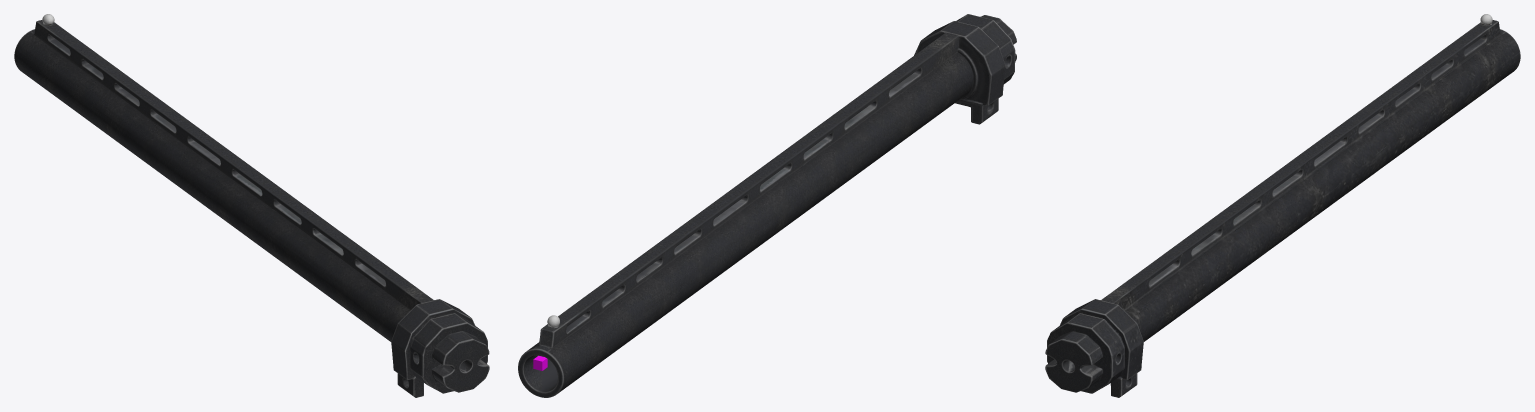
File: LongBarrel_Shotgun.glb
The picture shows the model from 3 angles, left to right: view 1: azimuth 30°, elevation 25°; view 2: azimuth 150°, elevation 25°; view 3: azimuth 330°, elevation 25°; orthographic projection. The views are drawn at different scales.
Visible parts, largest first — view 1: LongBarrel_02, LongBarrel_03, LongBarrel_01, LongBarrel_06, LongBarrel_05, LongBarrel_04; view 2: LongBarrel_02, LongBarrel_03, LongBarrel_01, LongBarrel_04, LongBarrel_05, LongBarrel_06; view 3: LongBarrel_02, LongBarrel_03, LongBarrel_01, LongBarrel_06, LongBarrel_05, LongBarrel_04.
Part boxes in pixels (x1=…): LongBarrel_02: x1=87, y1=76, x2=285, y2=251; LongBarrel_03: x1=239, y1=192, x2=432, y2=341; LongBarrel_01: x1=14, y1=14, x2=127, y2=135; LongBarrel_06: x1=413, y1=316, x2=489, y2=393; LongBarrel_05: x1=394, y1=306, x2=475, y2=397; LongBarrel_04: x1=391, y1=299, x2=464, y2=394; LongBarrel_02: x1=625, y1=145, x2=841, y2=331; LongBarrel_03: x1=790, y1=33, x2=974, y2=209; LongBarrel_01: x1=518, y1=267, x2=669, y2=397; LongBarrel_04: x1=914, y1=23, x2=1004, y2=124; LongBarrel_05: x1=929, y1=16, x2=1012, y2=115; LongBarrel_06: x1=956, y1=14, x2=1016, y2=83; LongBarrel_02: x1=1249, y1=76, x2=1443, y2=251; LongBarrel_03: x1=1103, y1=192, x2=1279, y2=341; LongBarrel_01: x1=1407, y1=14, x2=1520, y2=133; LongBarrel_06: x1=1045, y1=316, x2=1123, y2=393; LongBarrel_05: x1=1059, y1=303, x2=1142, y2=397; LongBarrel_04: x1=1072, y1=299, x2=1143, y2=391.
Bounding box in the file's own units: 0.2601 × 0.296 × 2.63.
2 materials, 1 textured.
